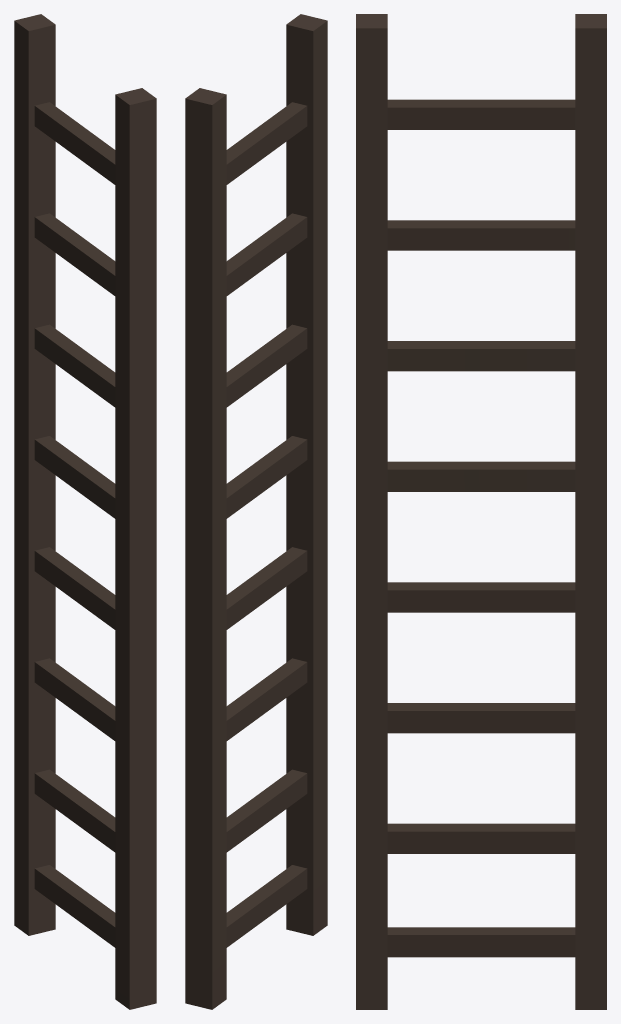
File: FireEscape_A_3.glb
3 renders of one model, left to right at view 1: azimuth 30°, elevation 25°; view 2: azimuth 150°, elevation 25°; view 3: azimuth 270°, elevation 25°, orthographic. The views are drawn at different scales.
Parts seen in each view (by area): view 1: FireEscape_A_3; view 2: FireEscape_A_3; view 3: FireEscape_A_3.
Part boxes in pixels (<box>): FireEscape_A_3: <box>14,14,156,1009</box>; FireEscape_A_3: <box>185,14,327,1009</box>; FireEscape_A_3: <box>356,14,606,1009</box>.
Size of the model in its own units: 0.0926 by 2.96 by 0.6863.
Materials: 1 (1 with a texture image).
